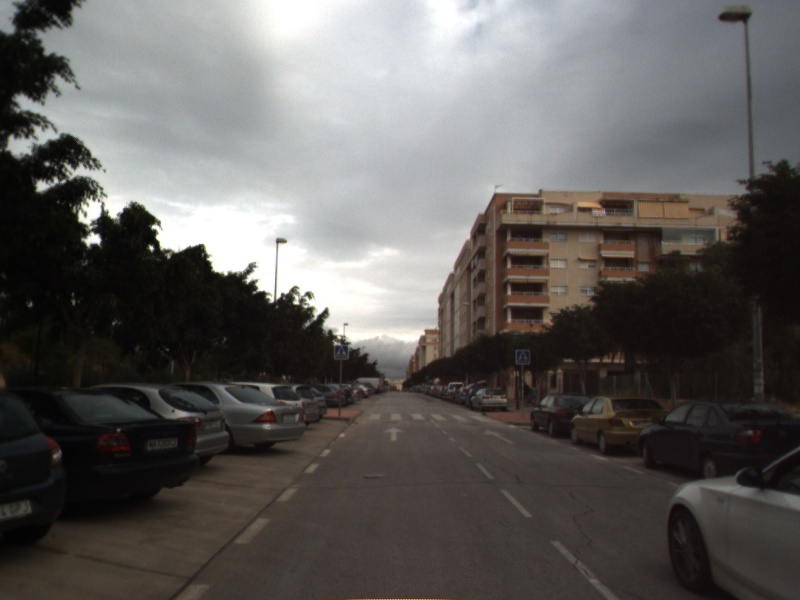STRAIGHT: (482, 428, 517, 446), (382, 424, 407, 443)
